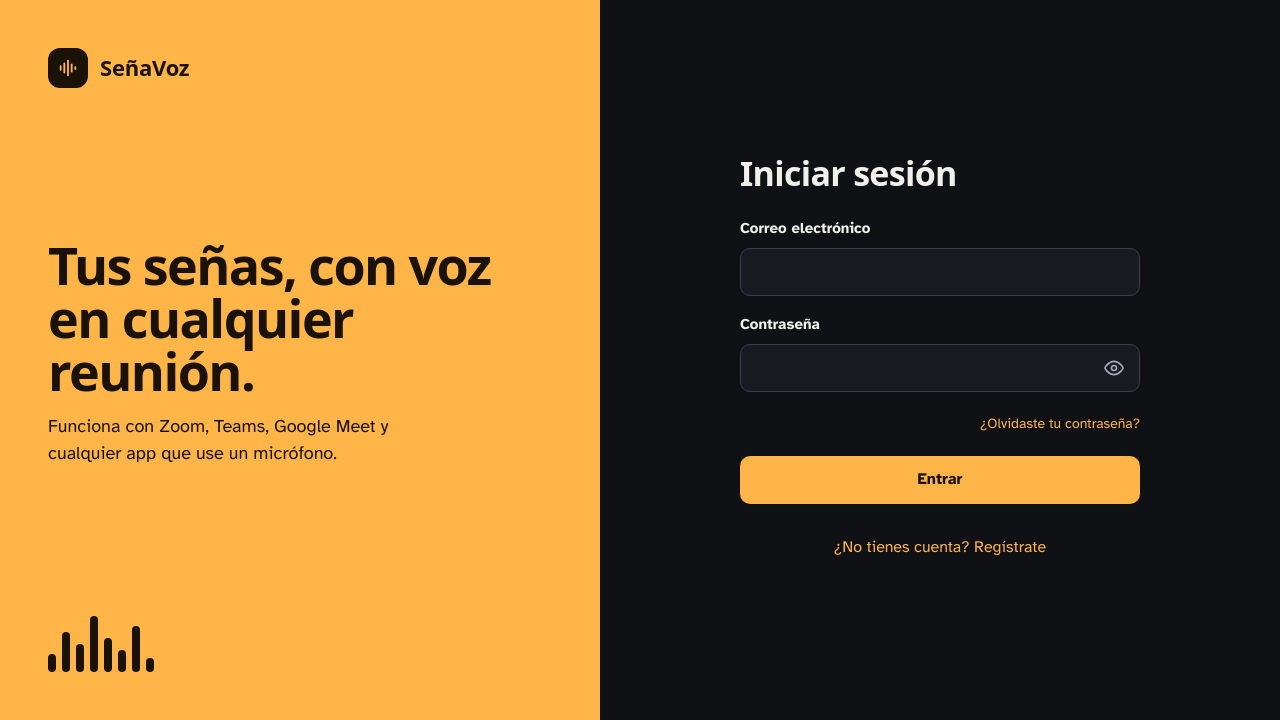
it: pantalla de login › muestra un mensaje claro si las credenciales son incorrectas
Step 1. Type "ana@example.com" into the field labelled "Correo electrónico" → (940, 272), box top-left (740, 248), bottom-right (1140, 296)
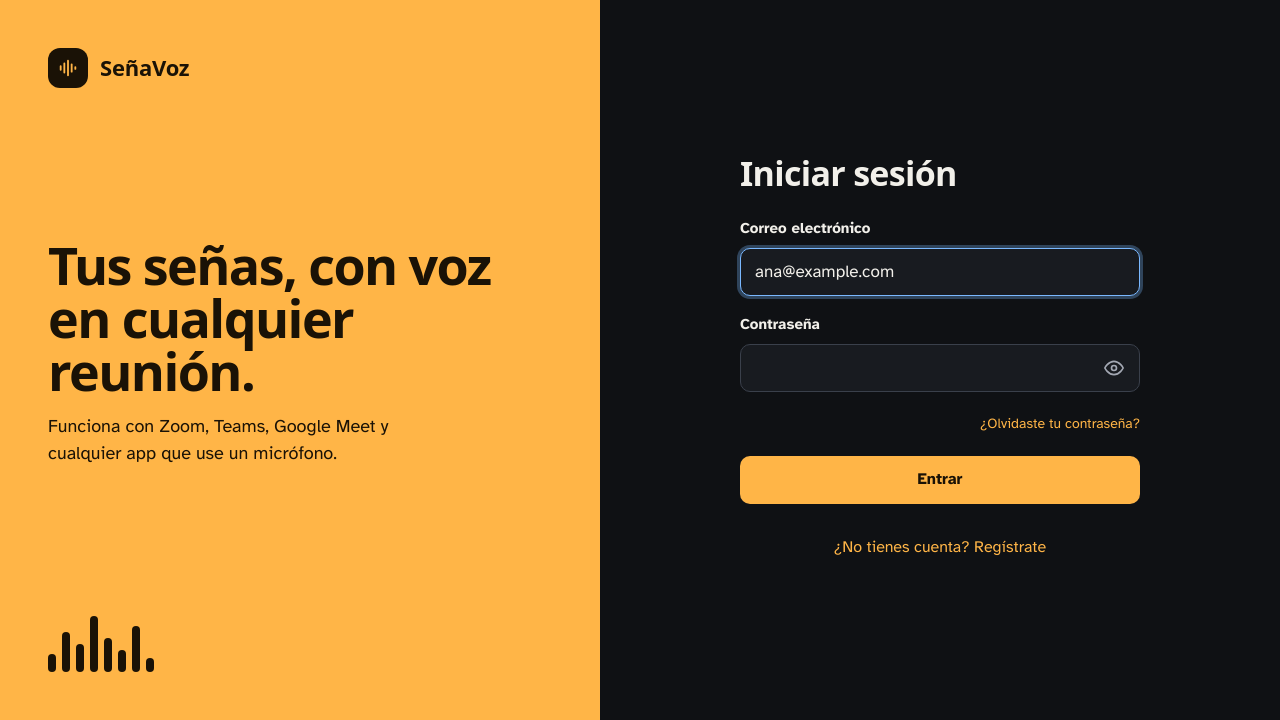
Step 2. Type "mala12345" into the password field labelled "Contraseña" → (940, 368), box top-left (740, 344), bottom-right (1140, 392)
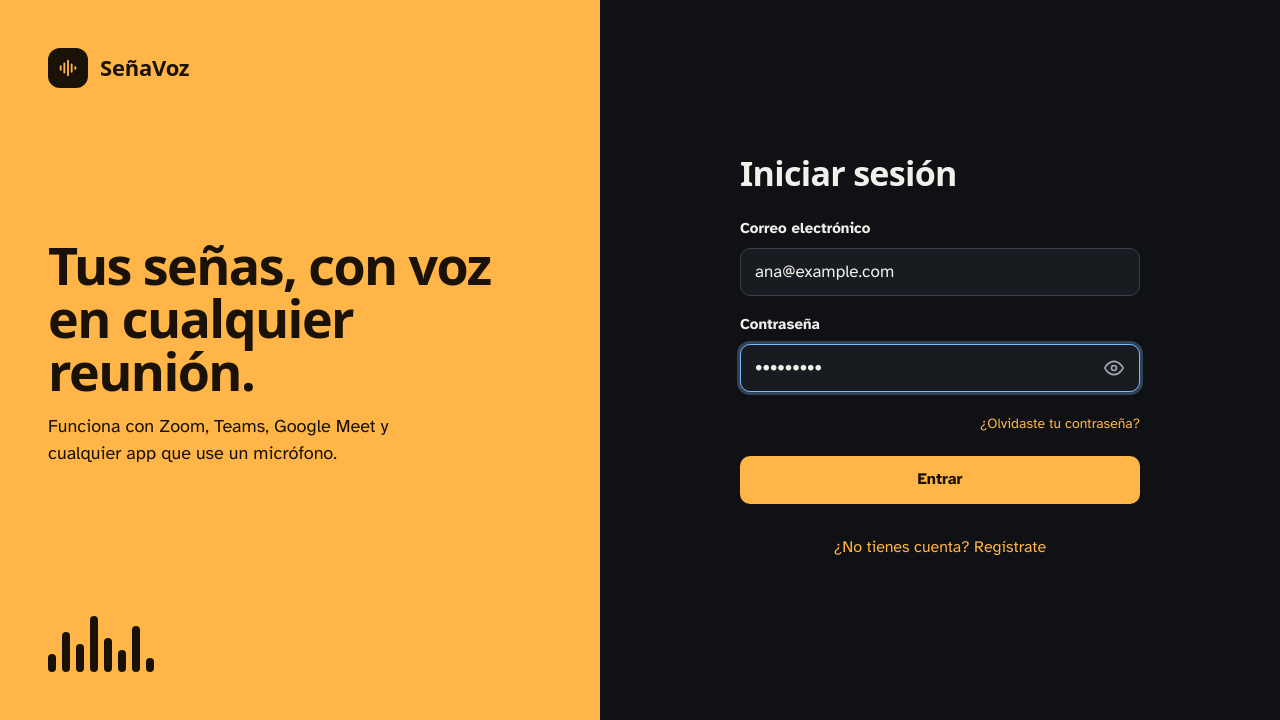
Step 3. Click the button "Entrar" → (940, 480), box top-left (740, 456), bottom-right (1140, 504)
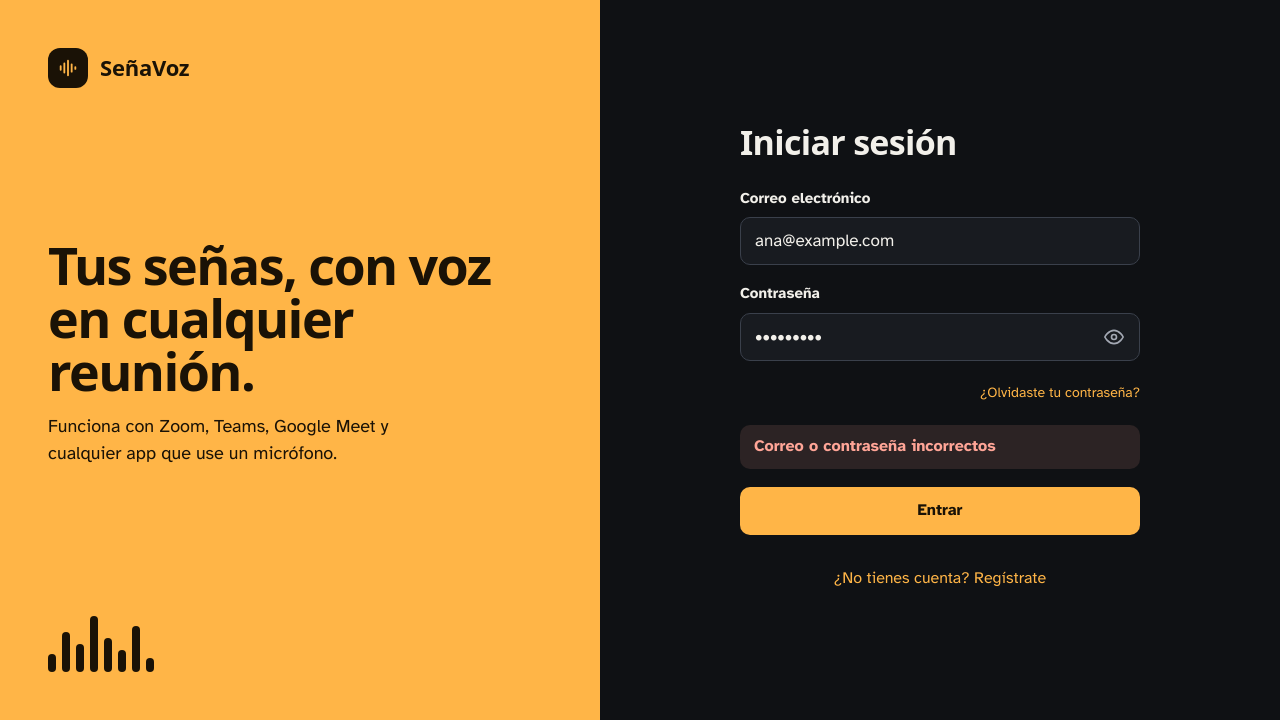
expect the message reads "Correo o contraseña incorrectos": met, box top-left (754, 436), bottom-right (996, 456)
